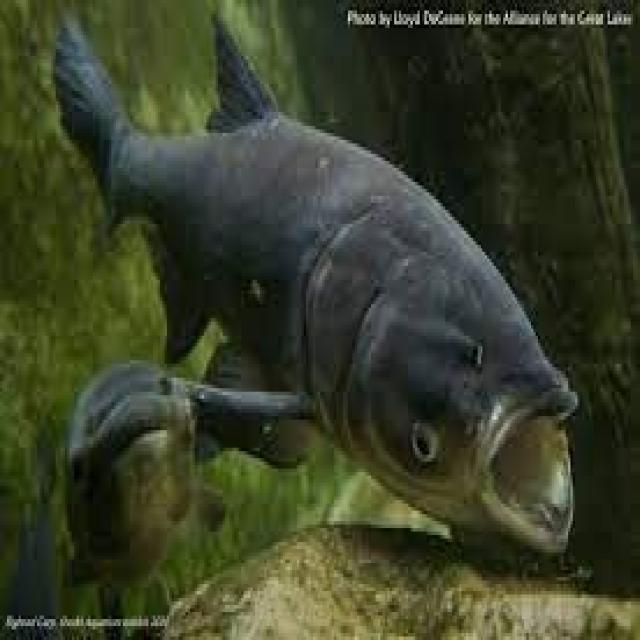Big-Head-Carp: (26, 2, 601, 599)
